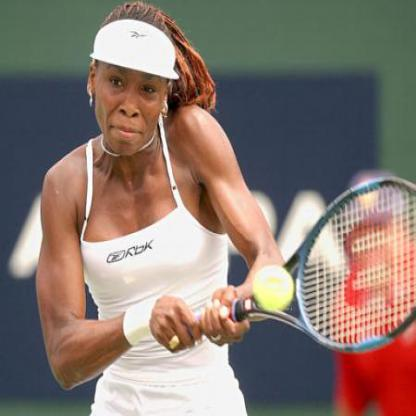face: (96, 9, 170, 160)
